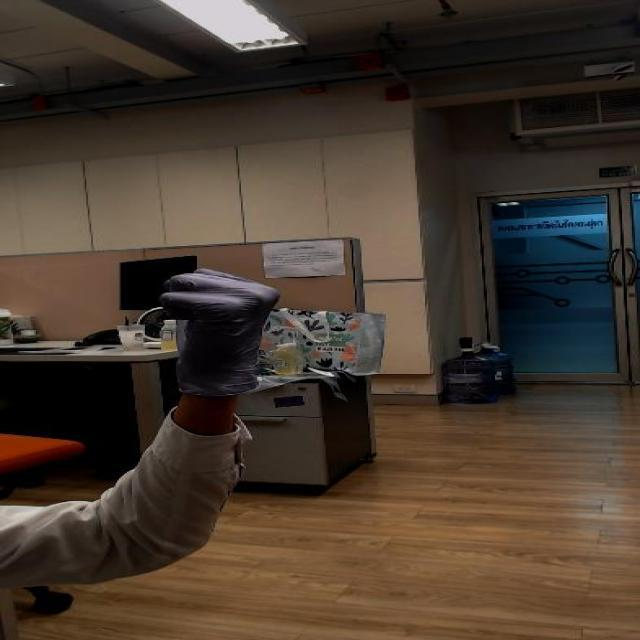with_gloves: (146, 259, 294, 355)
